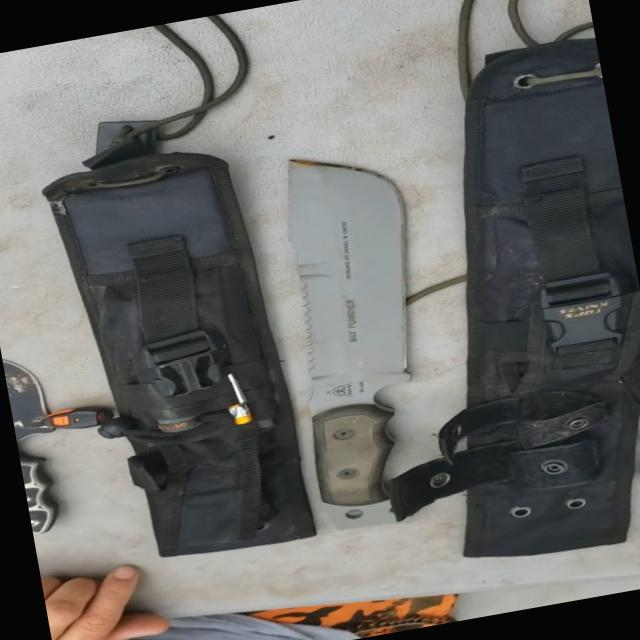knife: (241, 132, 464, 532)
